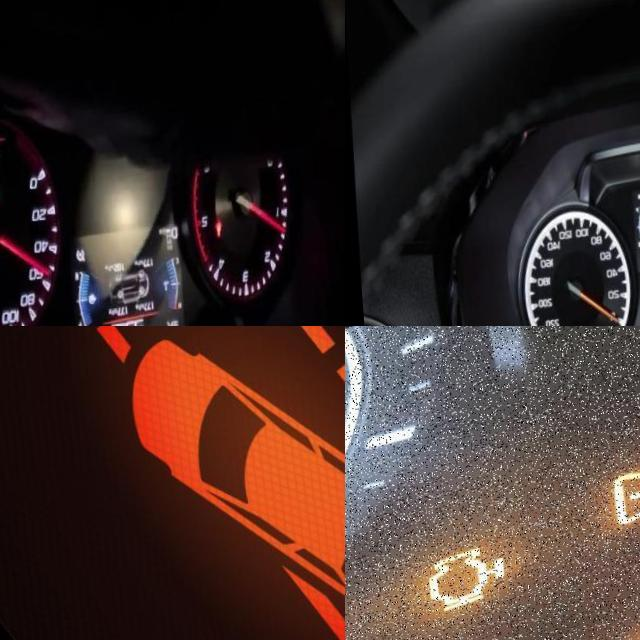Seat Belt: (209, 229, 218, 248)
